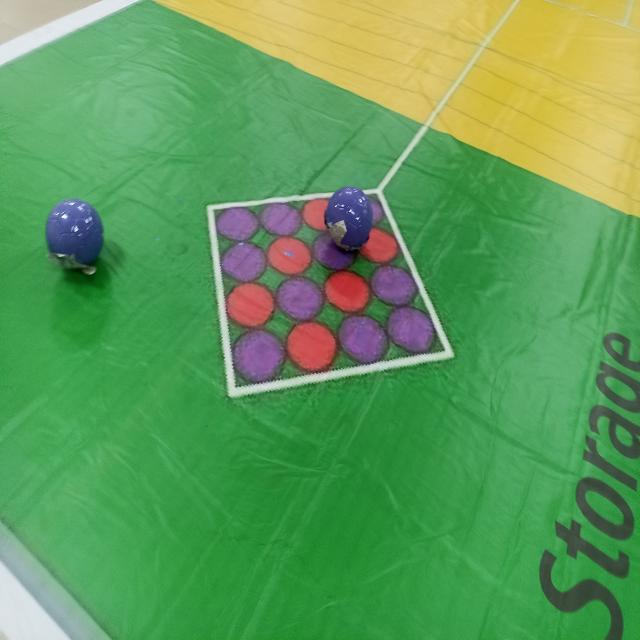purple_ball: (317, 170, 383, 260), (46, 196, 107, 286)
